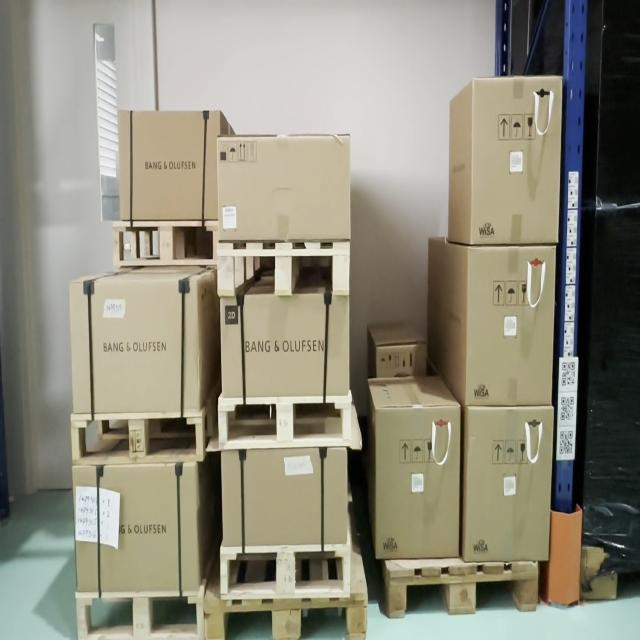box: (74, 281, 196, 412), (78, 467, 197, 590), (472, 78, 558, 243), (219, 136, 350, 241), (466, 247, 552, 405), (376, 407, 461, 558), (223, 296, 349, 396), (469, 410, 548, 560), (223, 449, 346, 542), (121, 112, 216, 218)
